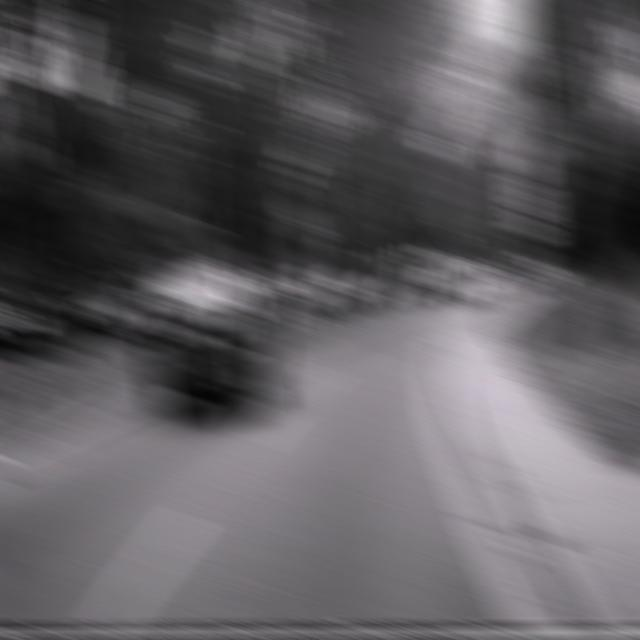speedLimit25: (509, 174, 552, 240)
